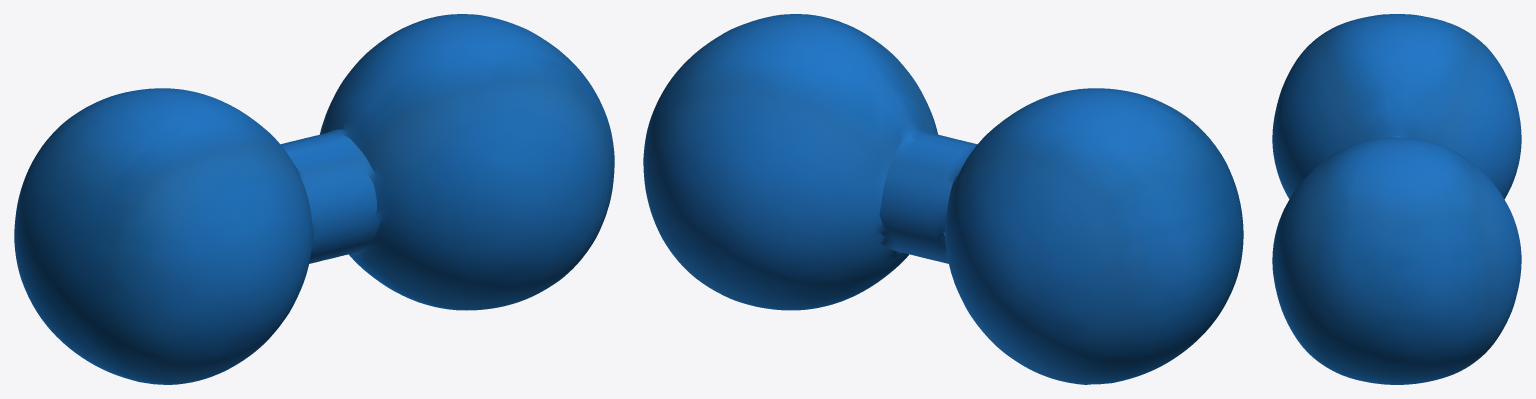
The model's file is Meshy_AI_h2_molecule_0407064300_texture.fbx.
3 renders of one model, left to right at view 1: azimuth 30°, elevation 25°; view 2: azimuth 150°, elevation 25°; view 3: azimuth 270°, elevation 25°, orthographic. The views are drawn at different scales.
Parts seen in each view (by area): view 1: output; view 2: output; view 3: output.
Boxes of the visible parts, left/top/right/bottom form: output: left=14, top=14, right=614, bottom=384; output: left=643, top=14, right=1243, bottom=384; output: left=1272, top=14, right=1521, bottom=384.
Bounding box in the file's own units: 191 × 86.99 × 87.53.
1 material, 1 textured.
